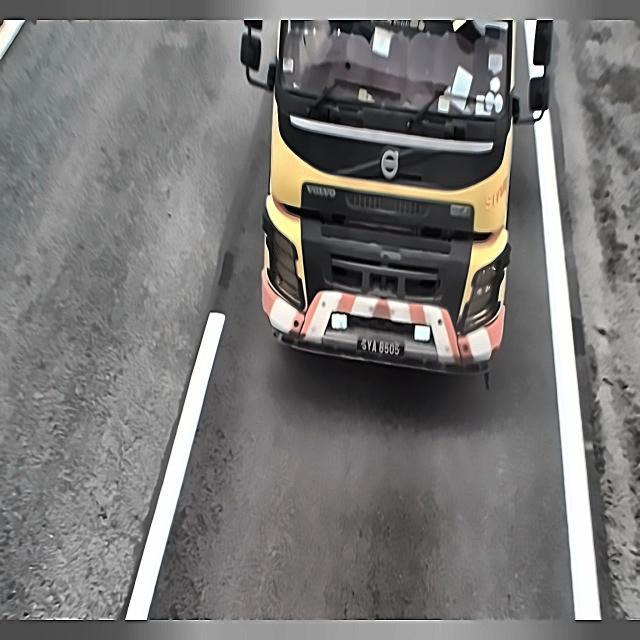car: (357, 332, 405, 363)
